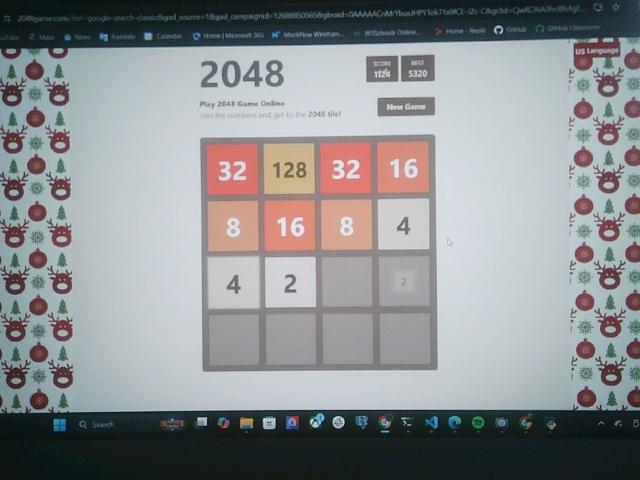board: (202, 137, 436, 370)
tile: (264, 143, 316, 195), (378, 200, 430, 251), (209, 256, 259, 308), (208, 143, 258, 194), (378, 142, 428, 193), (208, 201, 259, 251), (266, 257, 316, 308), (321, 143, 371, 193), (265, 201, 315, 251), (322, 201, 373, 249)
